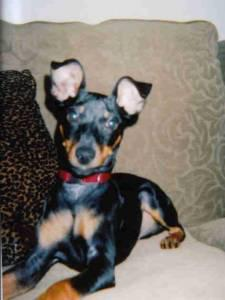dog-miniature_pinscher: (49, 58, 151, 174)
